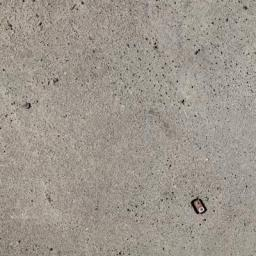FOD: (189, 194, 211, 218)
